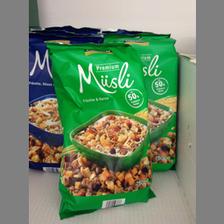cereal: (45, 41, 156, 221)
